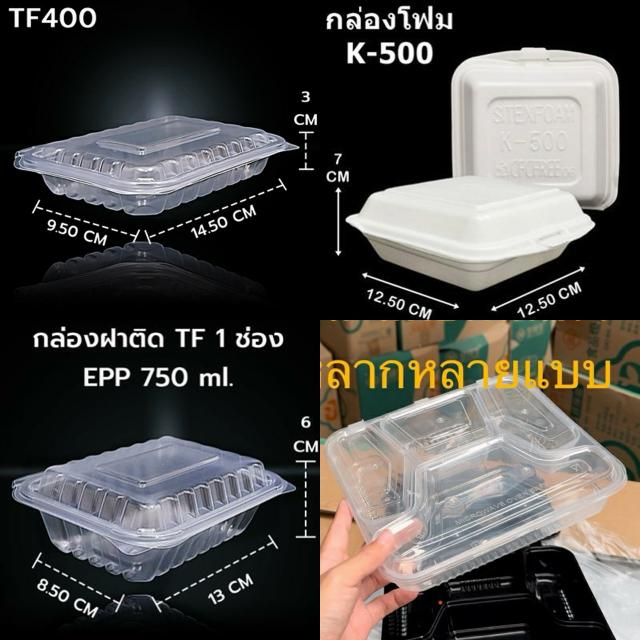Single-Use-Plastic: (325, 379, 626, 591), (12, 436, 295, 582), (346, 175, 594, 291), (14, 116, 296, 215), (451, 48, 619, 209)
